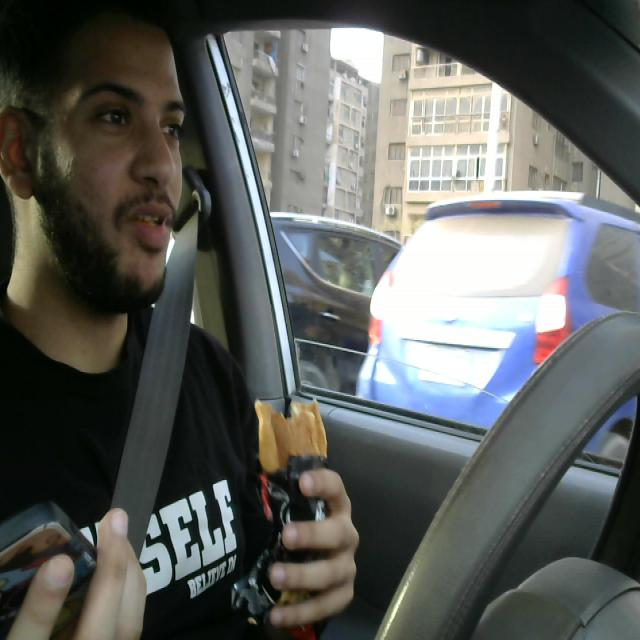eating: (238, 398, 334, 620)
